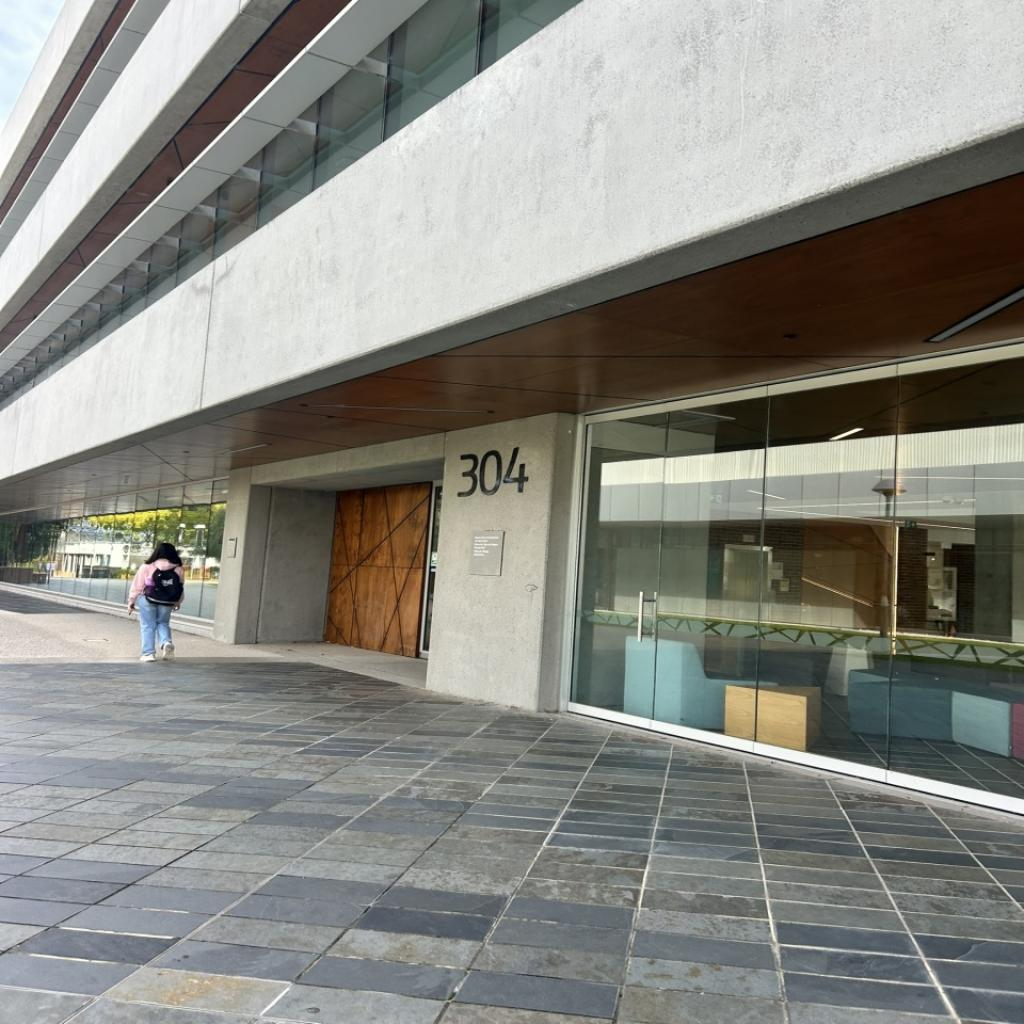BuildingCodes: (456, 445, 530, 499)
